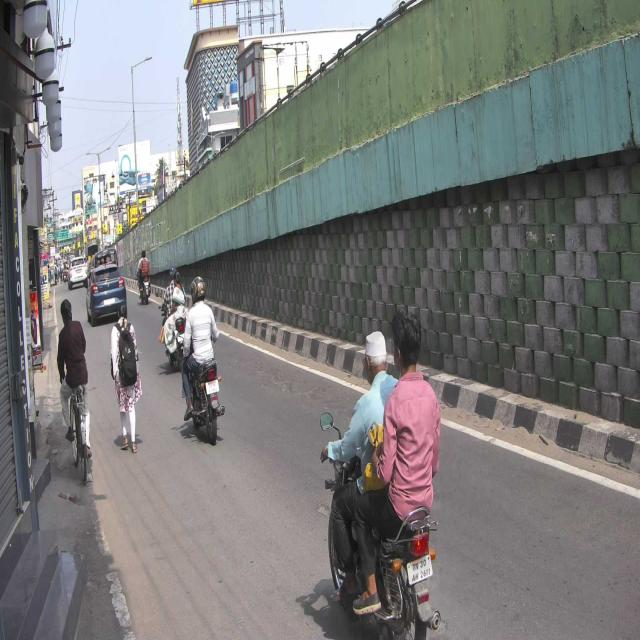double_rider: (322, 302, 443, 640)
